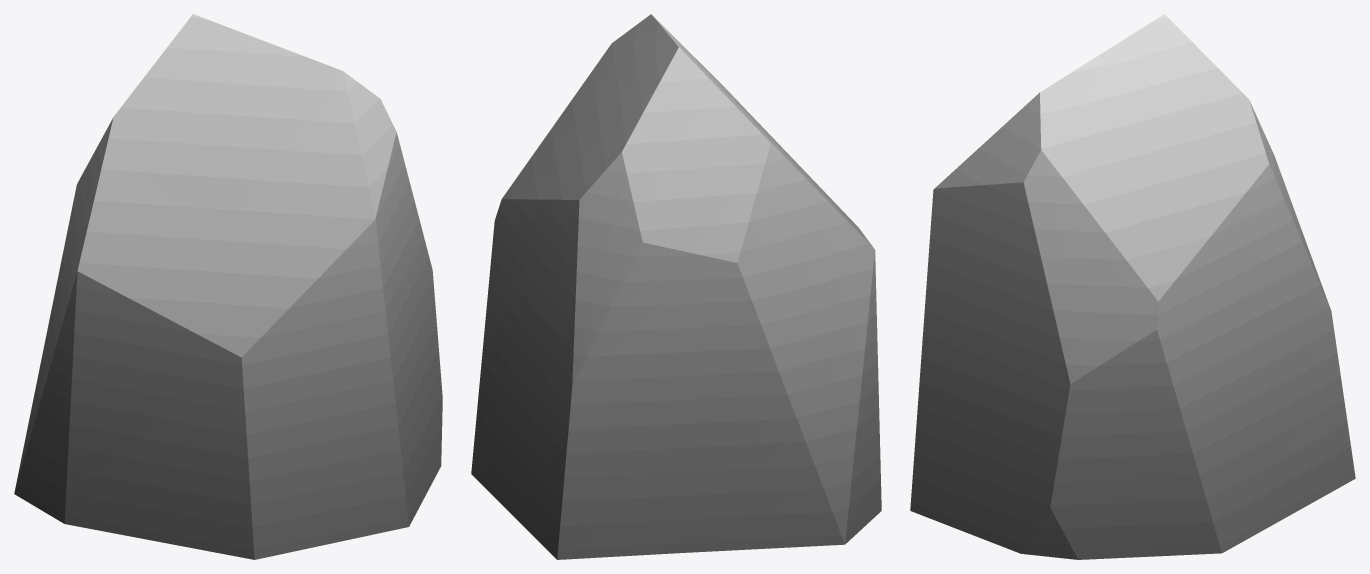
Rendered from stone_3.glb.
3 renders of one model, left to right at view 1: azimuth 30°, elevation 25°; view 2: azimuth 150°, elevation 25°; view 3: azimuth 270°, elevation 25°, orthographic.
Visible parts, largest first — view 1: stone 3; view 2: stone 3; view 3: stone 3.
Part boxes in pixels (x1,y1,x2,y2): stone 3: [14, 14, 442, 559]; stone 3: [471, 14, 881, 559]; stone 3: [910, 14, 1355, 559].
Bounding box in the file's own units: 0.6899 × 0.8016 × 0.7166.
Materials: 1 (1 with a texture image).
